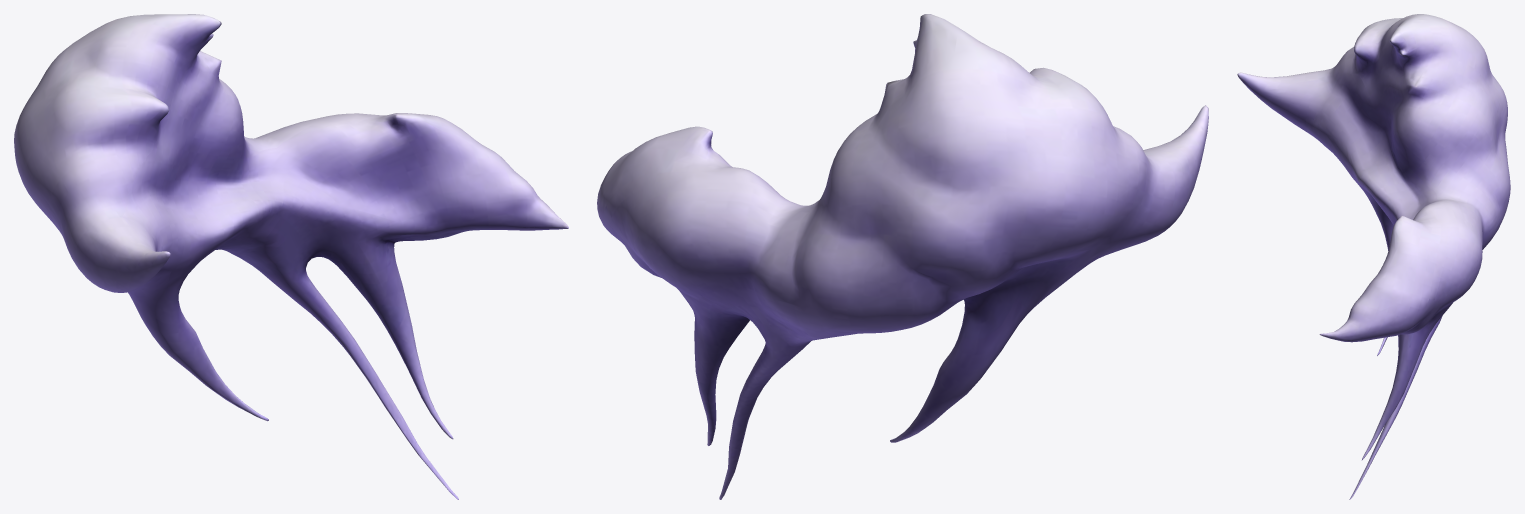
Rendered from sky_cloud_01a_nexus.glb.
3 renders of one model, left to right at view 1: azimuth 30°, elevation 25°; view 2: azimuth 150°, elevation 25°; view 3: azimuth 270°, elevation 25°, orthographic. The views are drawn at different scales.
Parts seen in each view (by area): view 1: cloud_01a; view 2: cloud_01a; view 3: cloud_01a.
Part boxes in pixels (x1,y1,x2,y2): cloud_01a: (14, 14, 568, 499); cloud_01a: (597, 14, 1208, 499); cloud_01a: (1237, 14, 1510, 499).
Size of the model in its own units: 227 by 228 by 146.
Materials: 1 (1 with a texture image).
